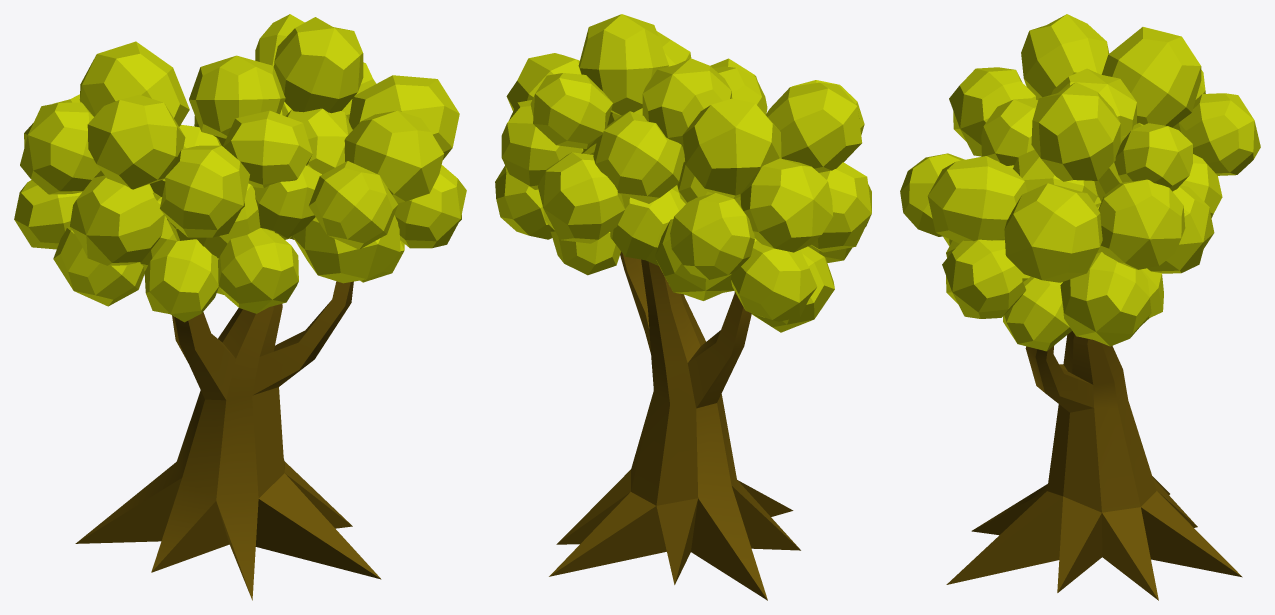
The model's file is Tree2.fbx.
3 renders of one model, left to right at view 1: azimuth 30°, elevation 25°; view 2: azimuth 150°, elevation 25°; view 3: azimuth 270°, elevation 25°, orthographic.
Parts seen in each view (by area): view 1: Tree2; view 2: Tree2; view 3: Tree2.
Boxes of the visible parts, bbox=[...] form: Tree2: bbox=[14, 14, 466, 600]; Tree2: bbox=[495, 14, 871, 600]; Tree2: bbox=[900, 14, 1260, 600].
Bounding box in the file's own units: 5.17 × 6.77 × 4.44.
